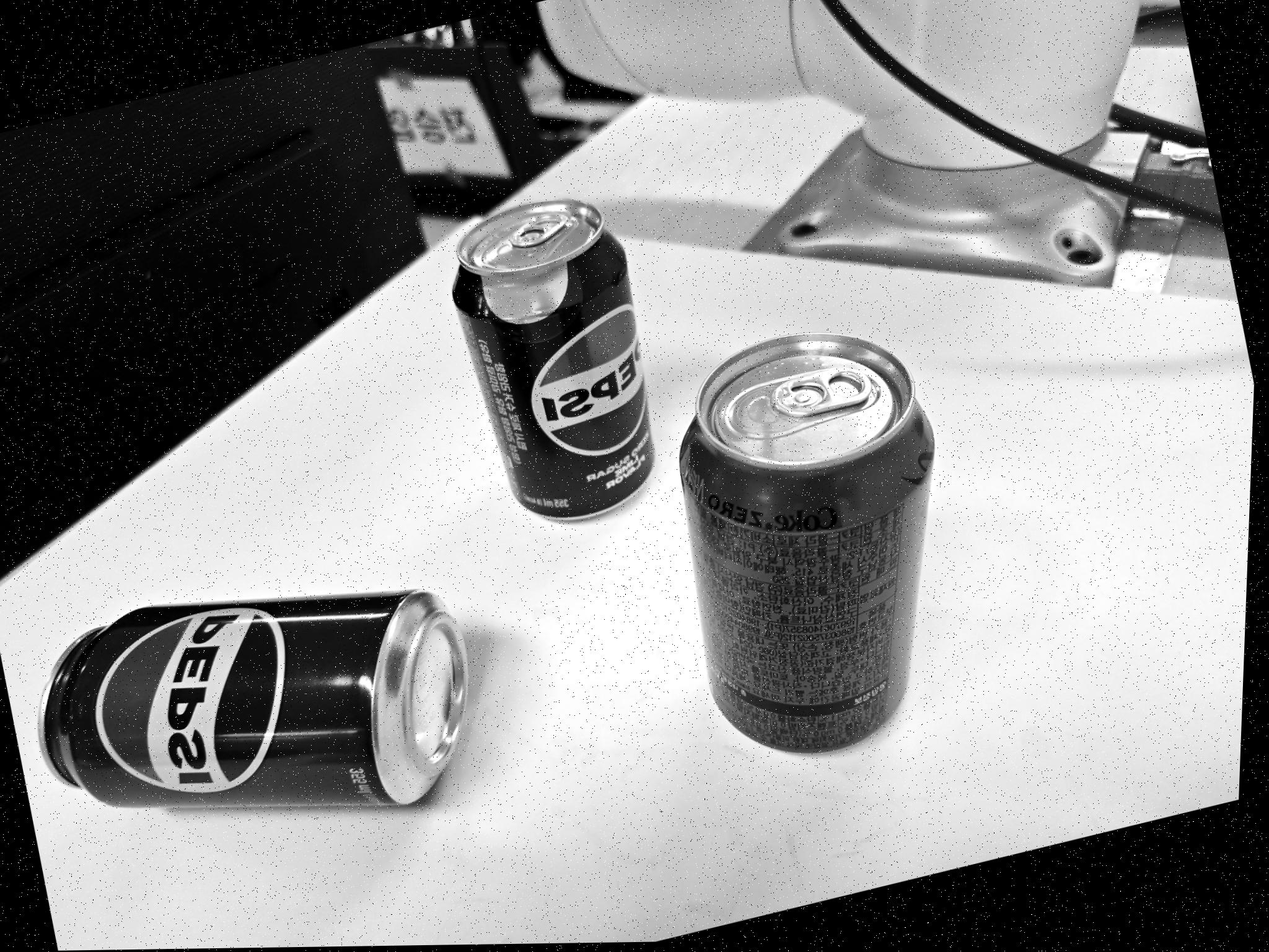can_coke_zero: (680, 334, 933, 751)
can_pepsi: (37, 590, 467, 807)
can_pepsi_zero: (453, 199, 654, 519)
